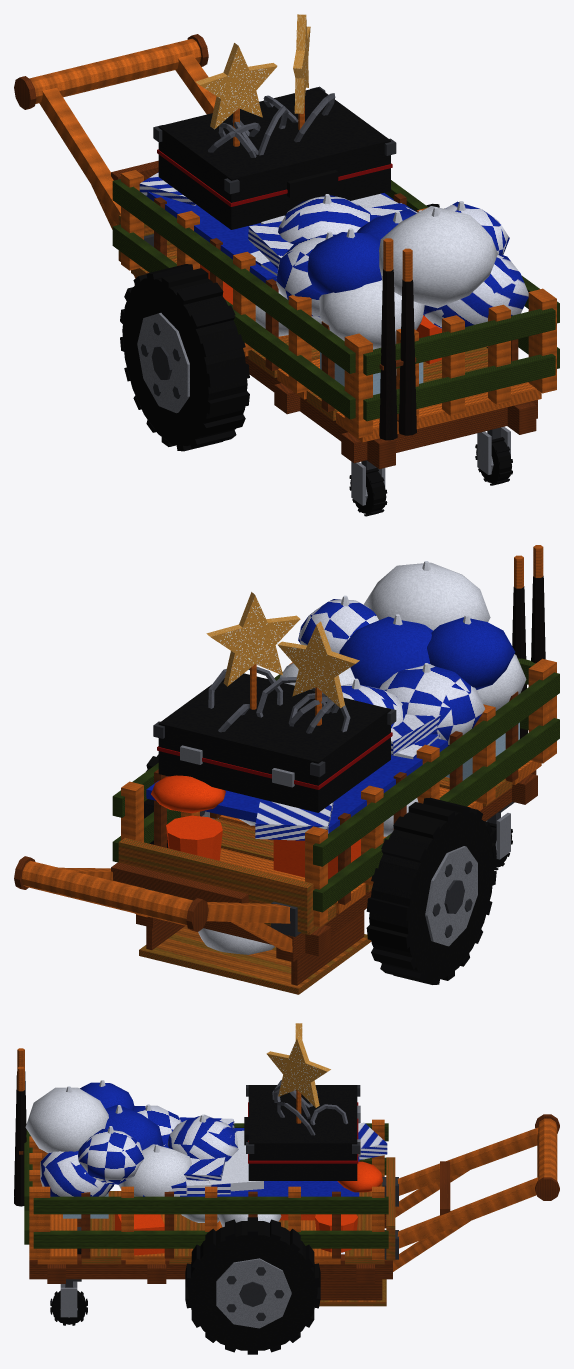
File: kariton.glb
3 views of the same model, one above another, from view 1: azimuth 30°, elevation 25°; view 2: azimuth 150°, elevation 25°; view 3: azimuth 270°, elevation 25° (orthographic). The views are drawn at different scales.
Parts seen in each view (by area): view 1: Kariton_Body, Wheel_L, Caster_R, Caster_L; view 2: Kariton_Body, Wheel_L; view 3: Kariton_Body, Wheel_R, Caster_R.
Boxes of the visible parts, x1=… form: Kariton_Body: x1=14, y1=14, x2=559, y2=505; Wheel_L: x1=120, y1=264, x2=249, y2=451; Caster_R: x1=475, y1=437, x2=512, y2=485; Caster_L: x1=349, y1=467, x2=387, y2=516; Kariton_Body: x1=14, y1=545, x2=559, y2=994; Wheel_L: x1=366, y1=797, x2=496, y2=984; Kariton_Body: x1=14, y1=1023, x2=559, y2=1317; Wheel_R: x1=185, y1=1217, x2=320, y2=1354; Caster_R: x1=50, y1=1290, x2=87, y2=1325.
Bounding box in the file's own units: 6.1 × 7.24 × 13.07.
Materials: 1 (1 with a texture image).
